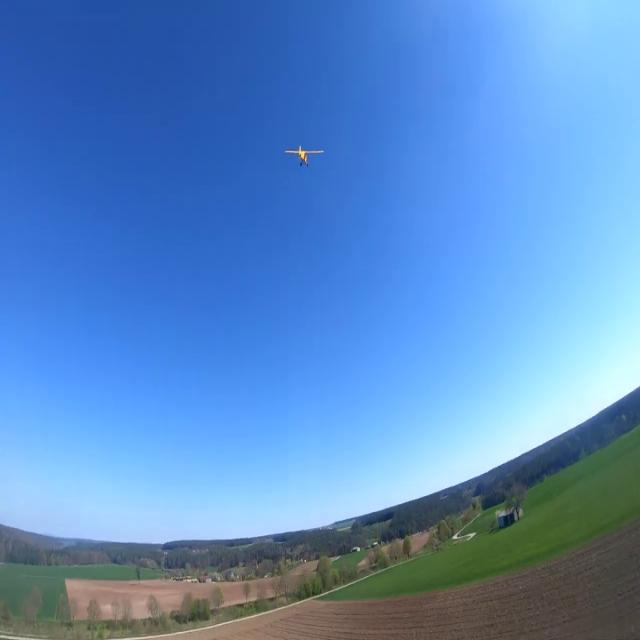iha: (284, 140, 325, 172)
